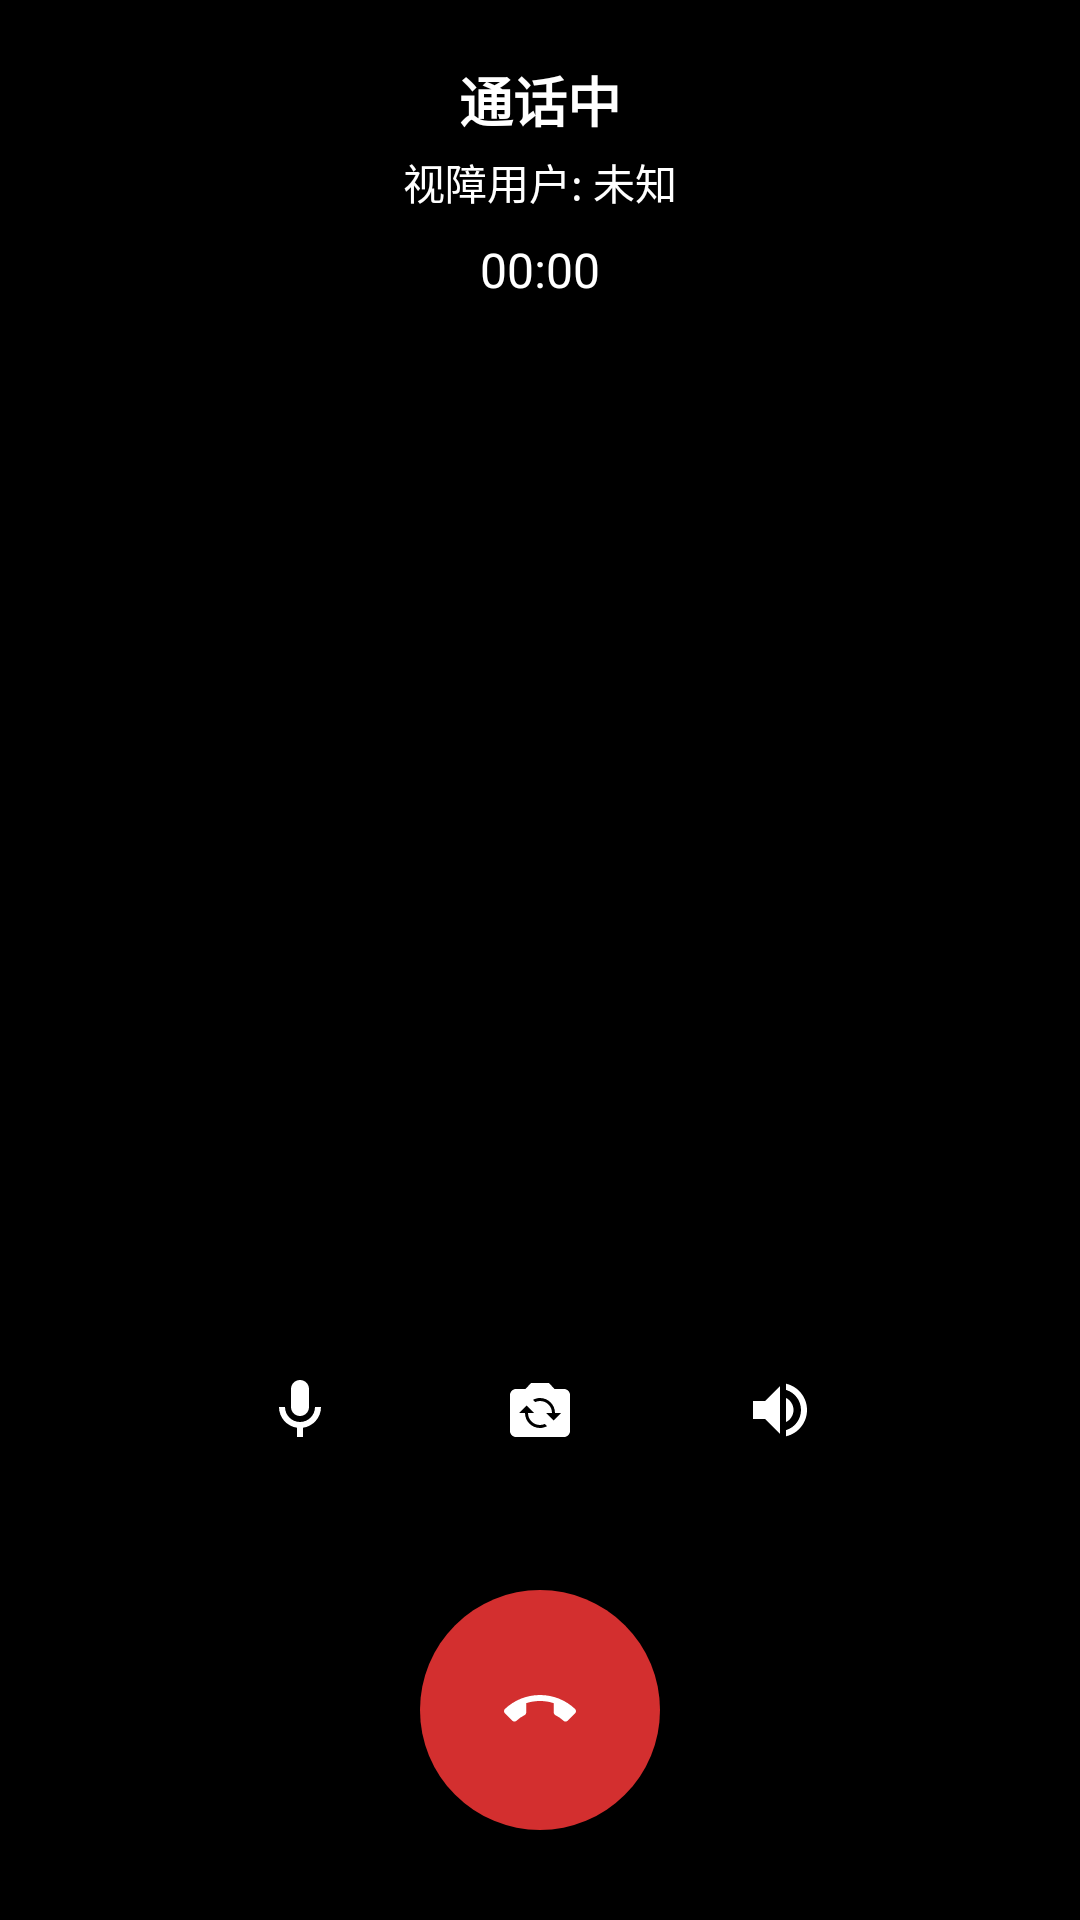

Icons on this 1080x1920 Android screen, each with the point to tap as (x,y):
切换摄像头: (540,1410)
扬声器: (780,1410)
挂断: (540,1710)
麦克风: (300,1408)
